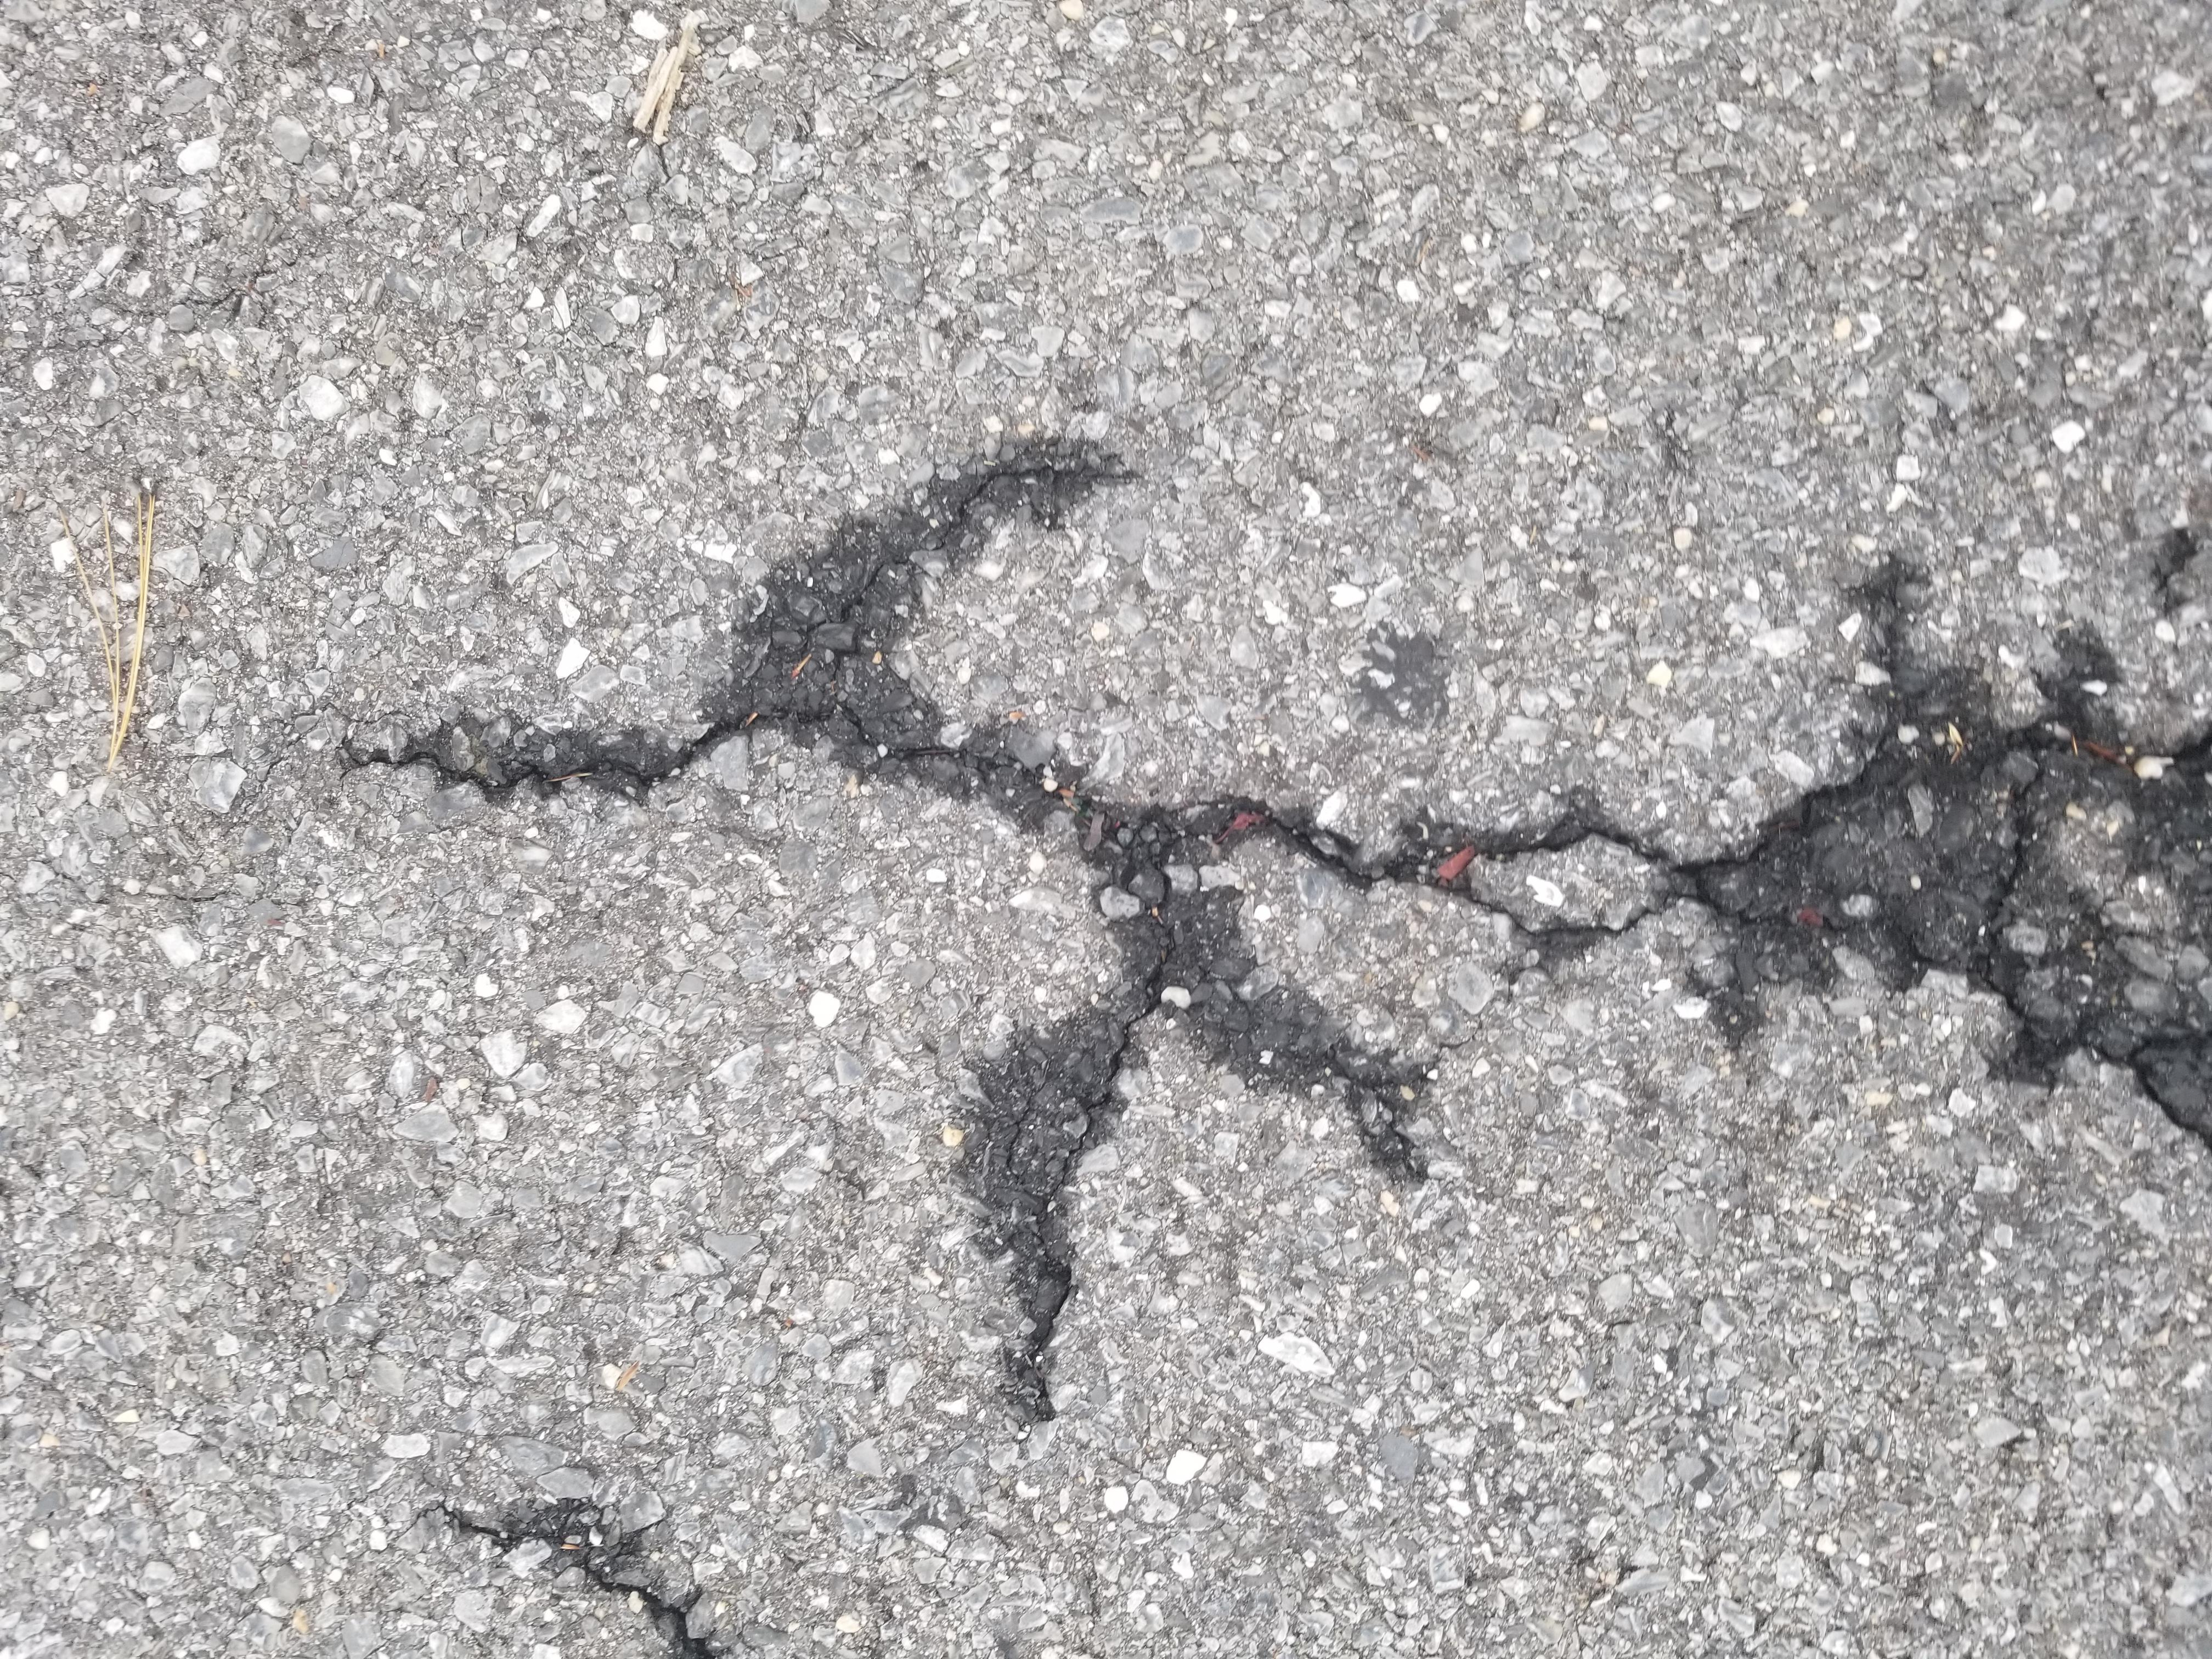crack: (425, 244, 1635, 1659)
